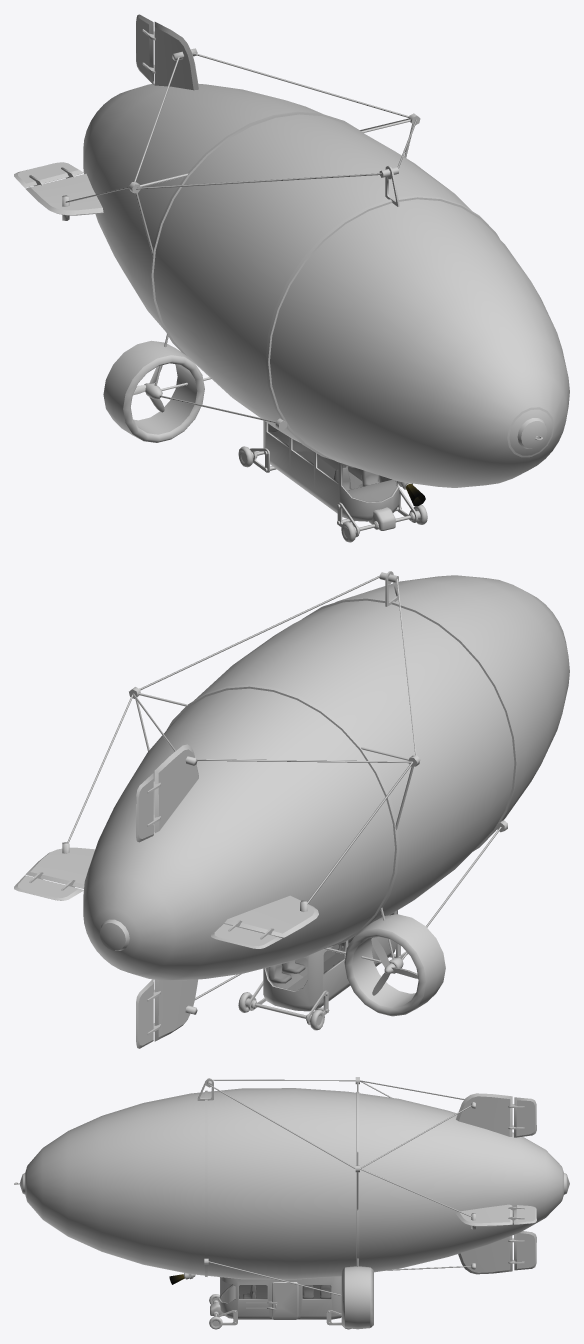
File: TP_Blimp_01A.fbx
3 views of the same model, one above another, from view 1: azimuth 30°, elevation 25°; view 2: azimuth 150°, elevation 25°; view 3: azimuth 270°, elevation 25° (orthographic). The views are drawn at different scales.
Parts seen in each view (by area): view 1: TP_Blimp_01A_Fuselage, TP_Blimp_01A_Rudder, TP_Blimp_01A_Elevator.R; view 2: TP_Blimp_01A_Fuselage, TP_Blimp_01A_Rudder, TP_Blimp_01A_Elevator.R, TP_Blimp_01A_Elevator.L, TP_Blimp_01A_Propeller.R; view 3: TP_Blimp_01A_Fuselage, TP_Blimp_01A_Rudder, TP_Blimp_01A_Door, TP_Blimp_01A_Elevator.L.
Part boxes in pixels (bbox=[...]): TP_Blimp_01A_Fuselage: bbox=[25, 22, 569, 537]; TP_Blimp_01A_Rudder: bbox=[136, 14, 155, 84]; TP_Blimp_01A_Elevator.R: bbox=[14, 162, 83, 187]; TP_Blimp_01A_Fuselage: bbox=[25, 571, 569, 1041]; TP_Blimp_01A_Rudder: bbox=[136, 773, 160, 1048]; TP_Blimp_01A_Elevator.R: bbox=[211, 920, 282, 948]; TP_Blimp_01A_Elevator.L: bbox=[14, 872, 83, 900]; TP_Blimp_01A_Propeller.R: bbox=[371, 937, 418, 995]; TP_Blimp_01A_Fuselage: bbox=[14, 1077, 569, 1329]; TP_Blimp_01A_Rudder: bbox=[508, 1097, 536, 1270]; TP_Blimp_01A_Door: bbox=[267, 1282, 298, 1319]; TP_Blimp_01A_Elevator.L: bbox=[508, 1205, 536, 1224].
Bounding box in the file's own units: 11.43 × 12.4 × 26.14.
